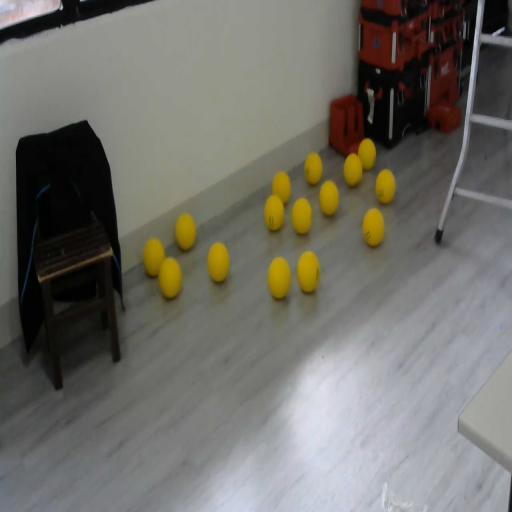FUEL: (267, 256, 292, 300), (296, 250, 321, 294), (158, 256, 182, 300), (206, 240, 230, 283), (142, 236, 165, 276), (362, 208, 385, 246), (292, 196, 312, 235), (176, 213, 196, 251), (375, 169, 396, 204), (319, 180, 339, 216), (343, 152, 363, 187), (272, 170, 291, 204), (304, 151, 322, 185), (358, 138, 376, 170)
